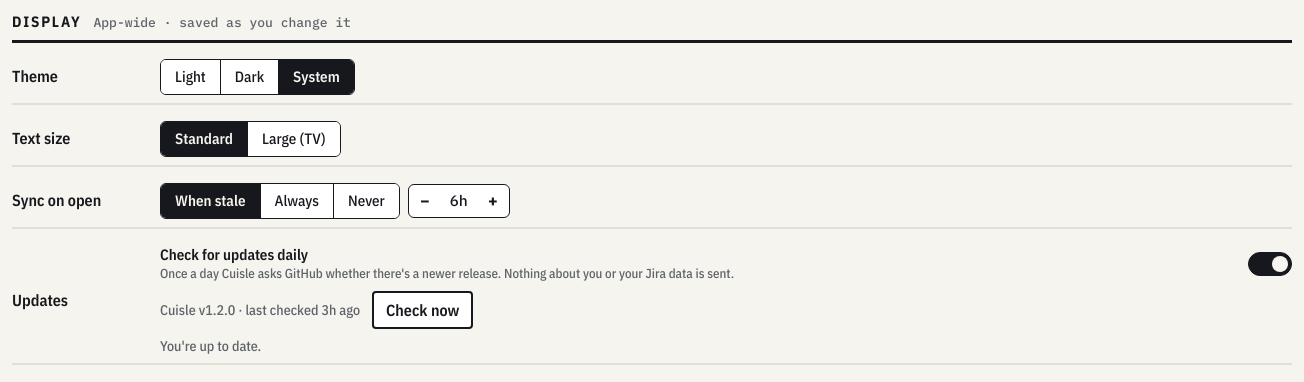
Display: Updates › shows the version and last check, and Check now asks once and updates the line
Step 1. Click the button "Check now" → point(423, 310), box x1=372 y1=291 x2=473 y2=329
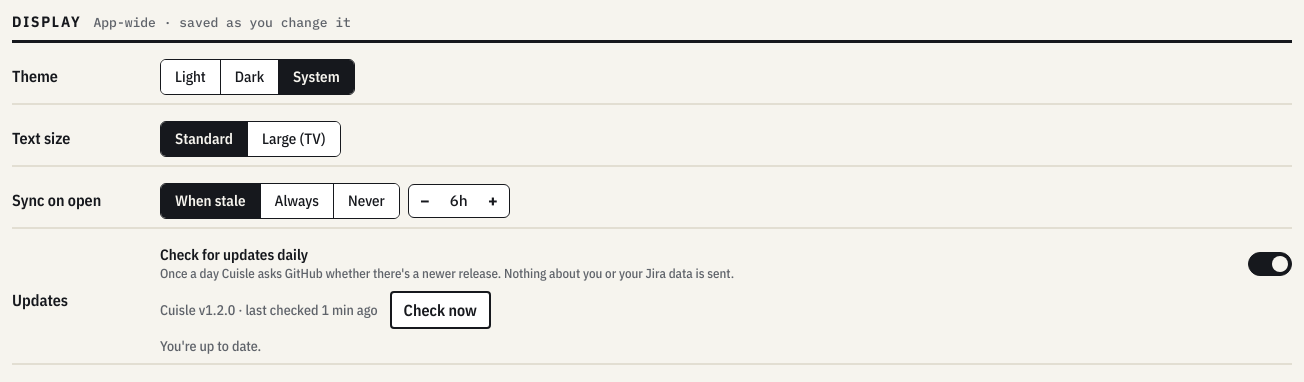
Check: the text "You're up to date." is shown, box x1=160 y1=337 x2=261 y2=355
Check: the text "last checked 1 min ago" is shown, box x1=246 y1=301 x2=378 y2=319
